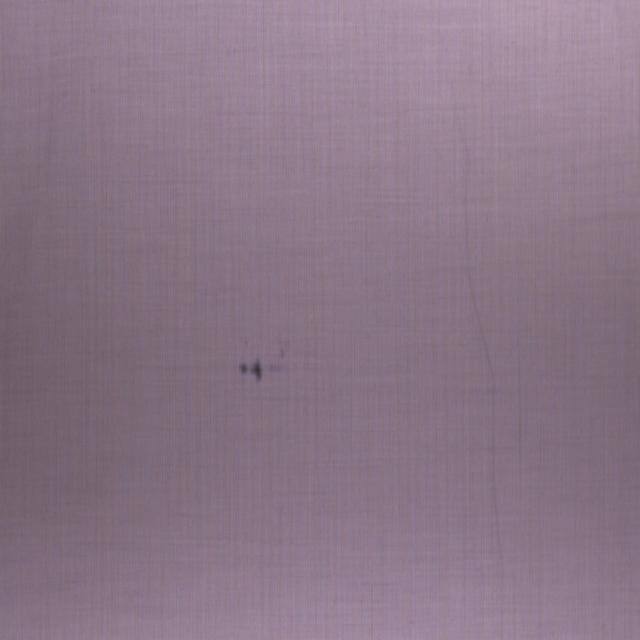dirty: (236, 353, 265, 386)
